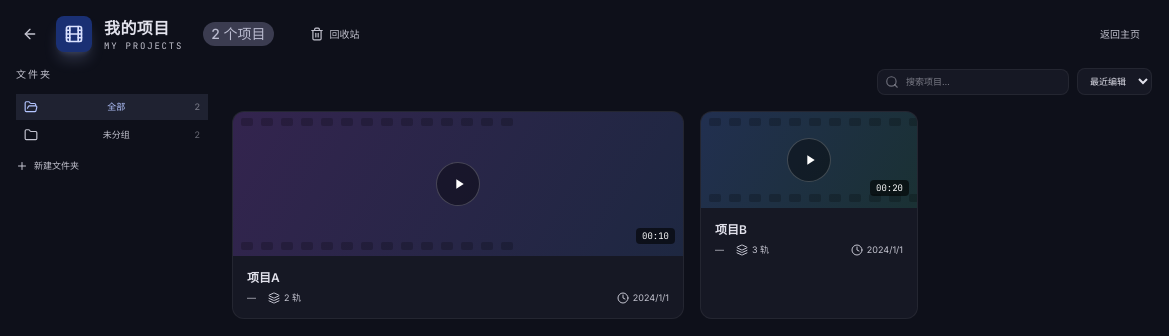
Test: ProjectsPage 回收站视图 (A2) › 切换回收站 → 加载 trash 列表并显示恢复/永久删除按钮
The width and height of the screenshot is (1169, 336).
Expected: the text "项目A" is shown, [247,270,280,285]
Click the button "回收站".
click(335, 34)  # box [298,21,372,47]
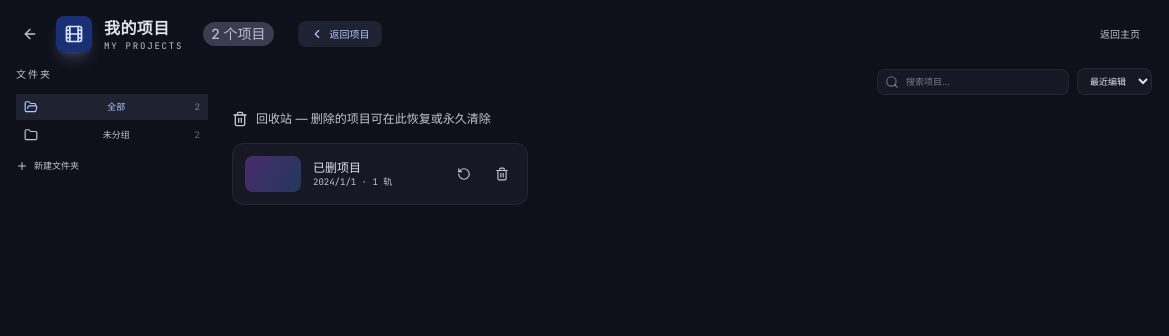
Result: the text "已删项目" is shown at [313,160,361,175]
Click the button named "恢复 已删项目".
click(464, 174)  # box [451,161,477,187]
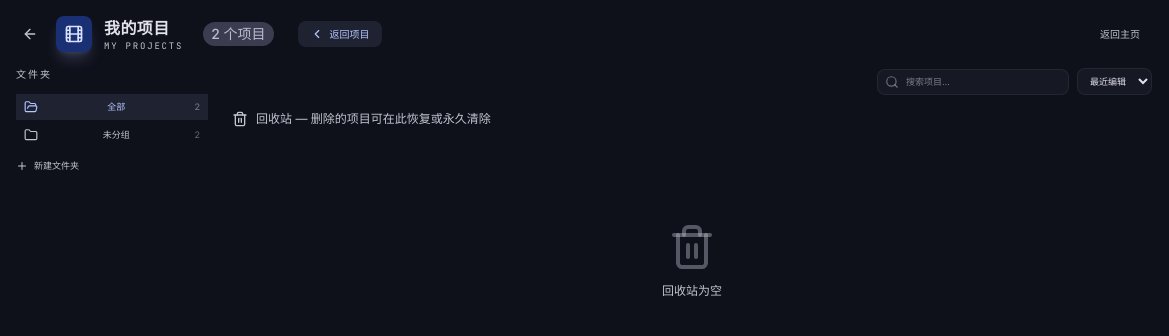
Result: the text "已删项目" is gone
